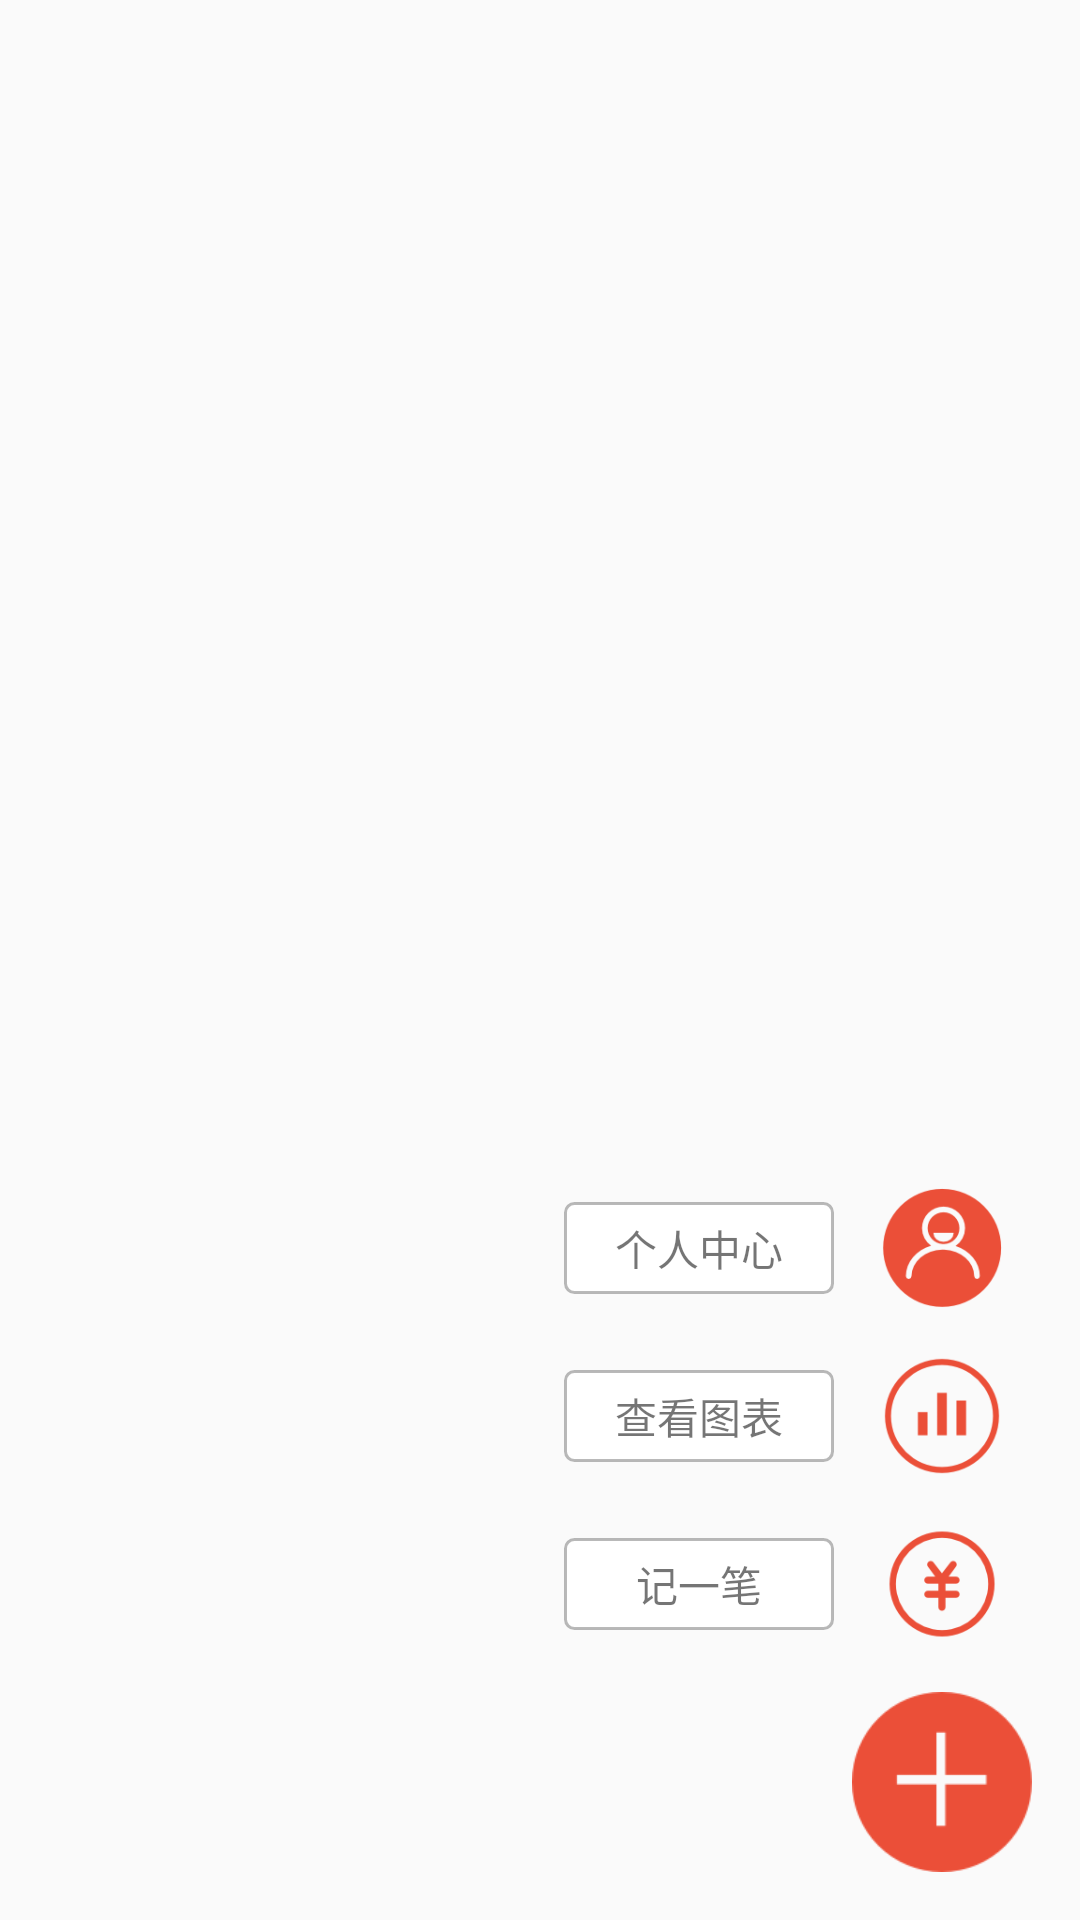

Where icons sit on this 1080 × 1920 app screen, as (x1, y1, x2, y2):
add record: (852, 1692, 1032, 1872)
chart: (884, 1358, 1000, 1474)
money record: (889, 1531, 995, 1637)
user center: (883, 1189, 1001, 1307)
